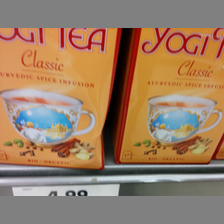tea: (1, 27, 121, 169), (110, 28, 224, 164)
